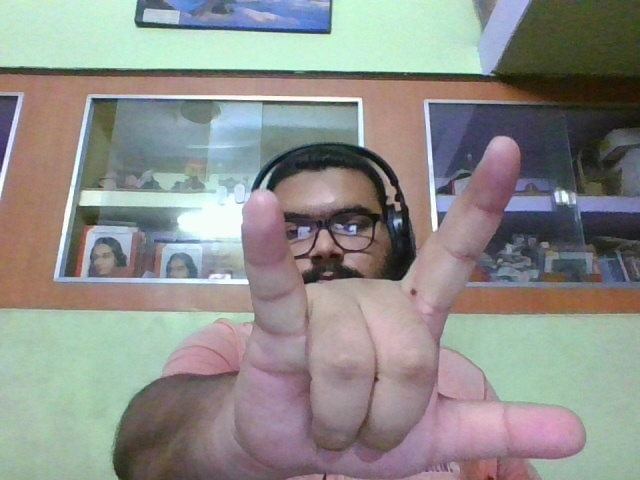hello: (242, 135, 590, 479)
